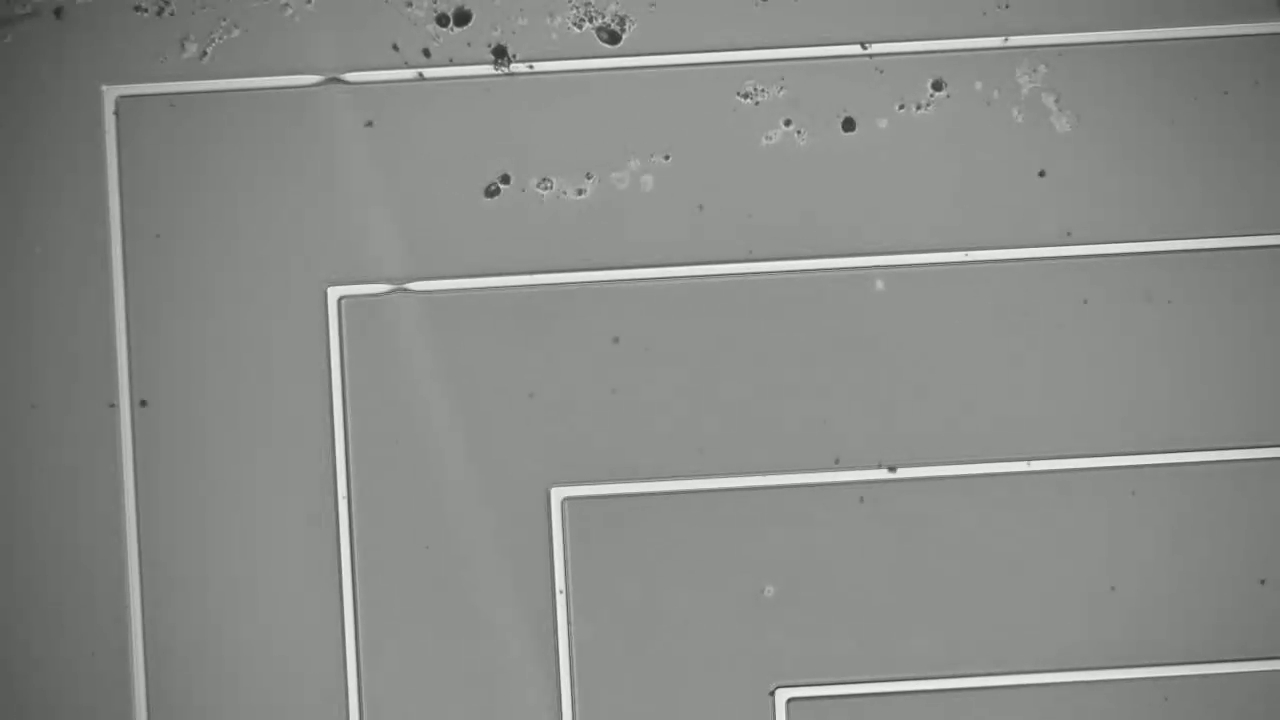edge_bite: (311, 67, 356, 94), (376, 273, 422, 299)
stains_enbedded: (878, 461, 905, 486)
